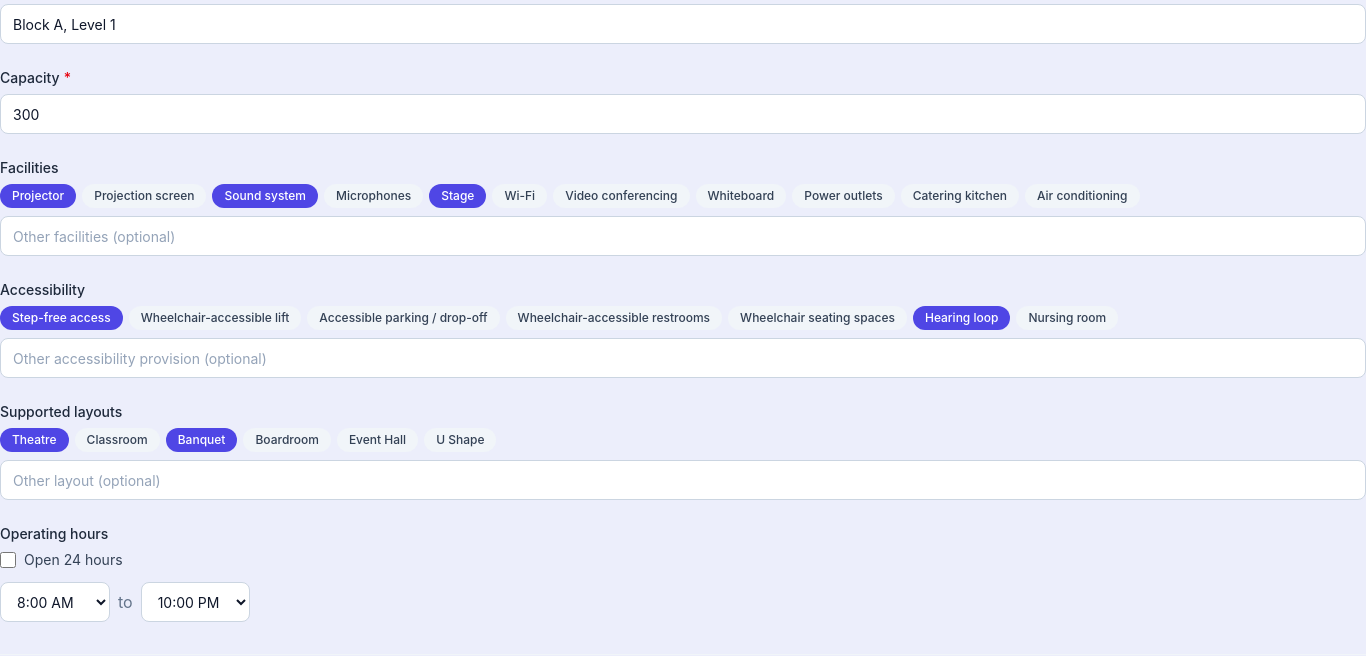
Test: US-14: editing a venue › AC-3: shows the warning when the change may affect existing bookings
Replace the text in the number field labelled "Capacity*" with "100" at (683, 114), box [0,94,1365,134]
(page scrolled)
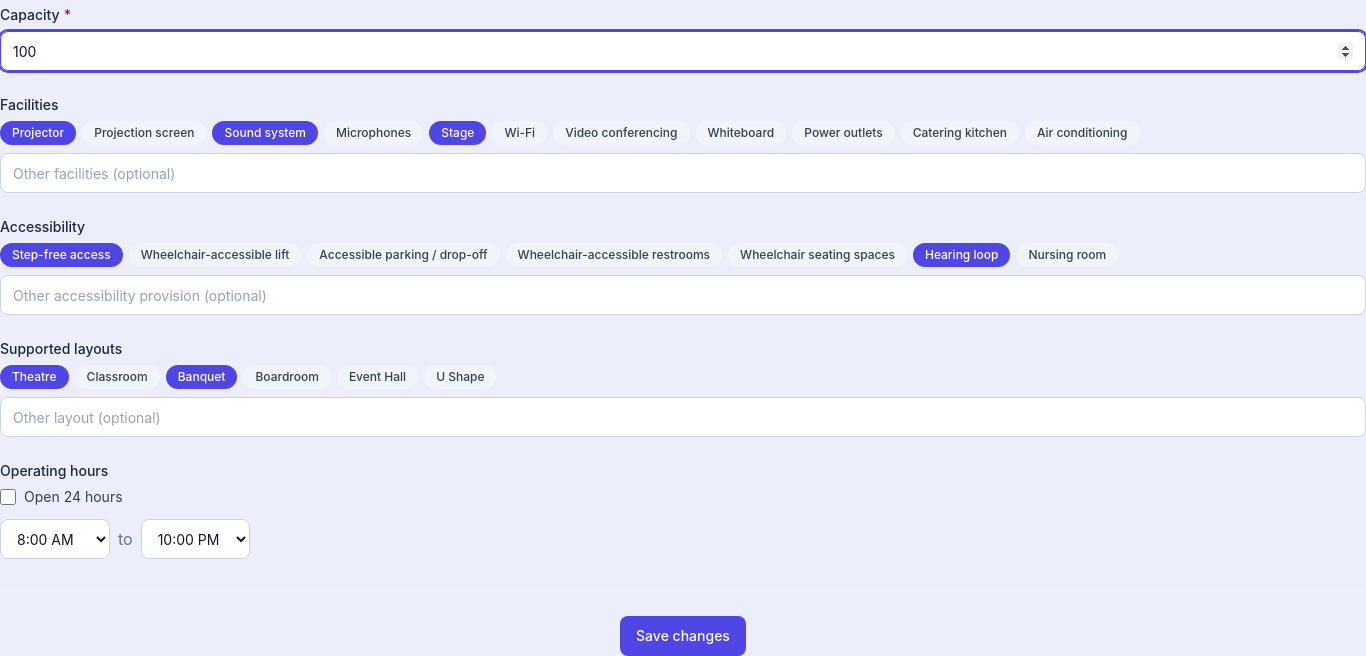
Click the button "Save changes".
click(683, 636)  # box [620,616,746,655]
(page scrolled)
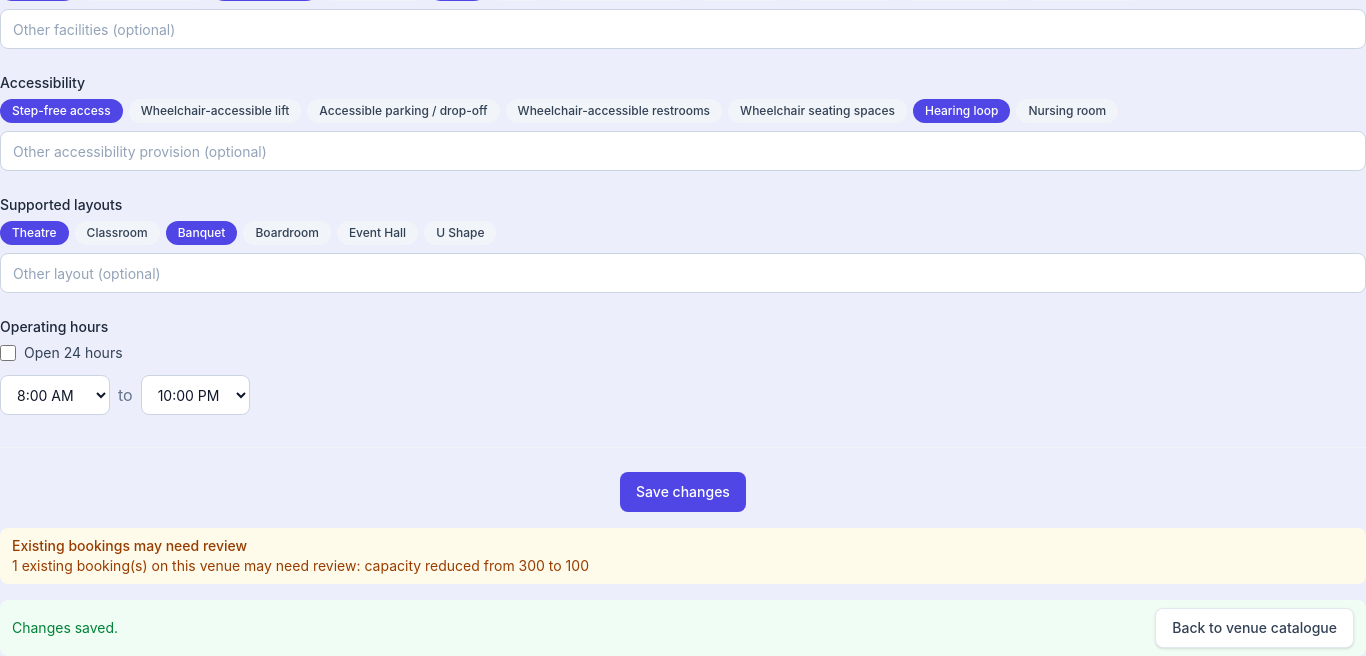
Expected: the message that starts with "Existing bookings may need review" is shown, [12,537,247,554]
Expected: the message that starts with "Existing bookings may need review" shows "capacity reduced from 300 to 100", [12,557,589,574]
Expected: the message "Changes saved." is shown, [12,618,118,638]
